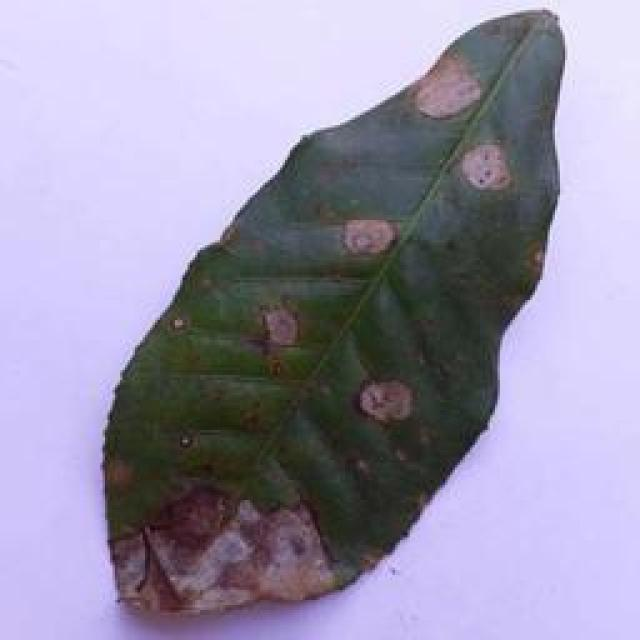Gray Blight: (94, 2, 576, 620)
